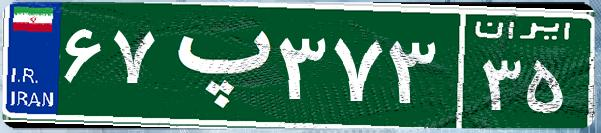3: (385, 28, 445, 110), (273, 28, 330, 110), (475, 38, 525, 113)
5: (525, 38, 570, 115)
6: (57, 26, 110, 107)
7: (330, 28, 385, 110), (110, 28, 158, 105)
پ: (158, 15, 273, 115)
